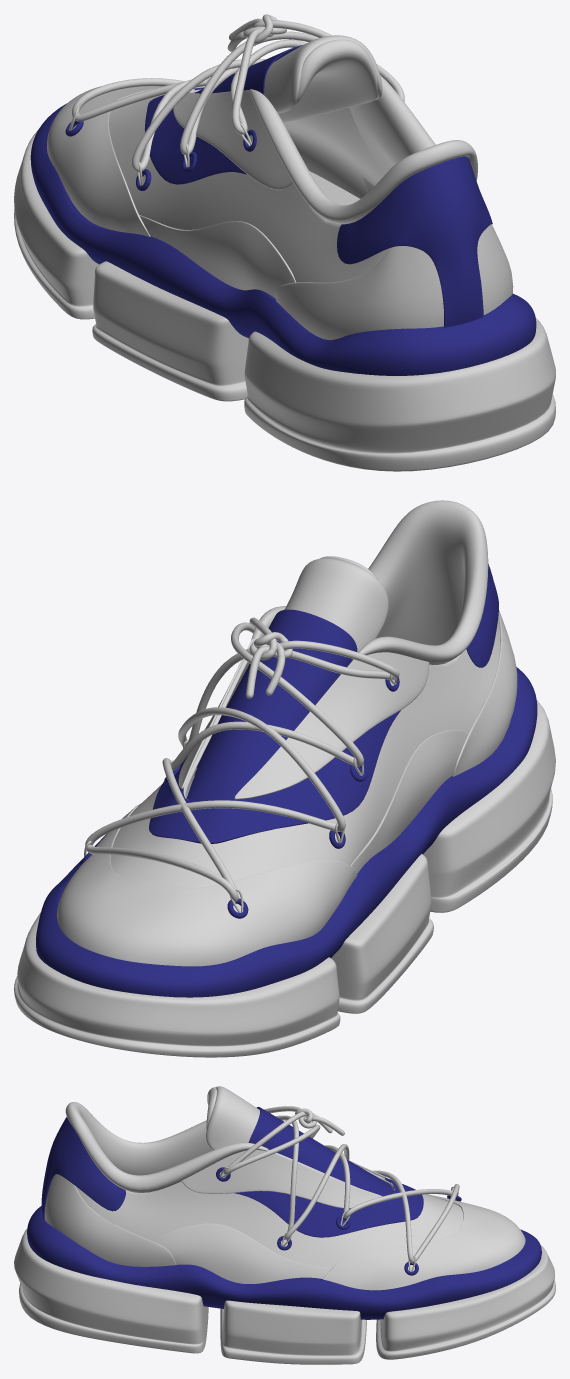
Rendered from shoe.fbx.
3 renders of one model, top to bottom at view 1: azimuth 30°, elevation 25°; view 2: azimuth 150°, elevation 25°; view 3: azimuth 270°, elevation 25°, orthographic. The views are drawn at different scales.
Visible parts, largest first — view 1: Midsole 2, Midsole 1, 116481618834108208-4357537089303569488_Thicken, Heel Overlay, Heel Underlay, Lining, Lace, Toe Cap, Tongue, Mudguard, Eyerow Overlay, Eyerow Underlay (+3 smaller); view 2: Midsole 2, Toe Cap, Midsole 1, 116481618834108208-4357537089303569488_Thicken, Lining, Lace, Gore, Eyerow Overlay, Eyerow Underlay, Tongue, Mudguard, Heel Underlay (+2 smaller); view 3: Midsole 2, Midsole 1, 116481618834108208-4357537089303569488_Thicken, Toe Cap, Lining, Mudguard, Lace, Eyerow Overlay, Heel Underlay, Eyerow Underlay, Heel Overlay, Gore (+2 smaller).
Part boxes in pixels (x1,y1,x2,y2): Midsole 2: (14, 130, 555, 471); Midsole 1: (30, 103, 536, 375); 116481618834108208-4357537089303569488_Thicken: (109, 87, 389, 282); Heel Overlay: (337, 156, 492, 327); Heel Underlay: (275, 224, 513, 340); Lining: (249, 75, 477, 224); Lace: (72, 14, 404, 172); Toe Cap: (47, 86, 162, 236); Tongue: (264, 35, 382, 122); Mudguard: (139, 176, 374, 298); Eyerow Overlay: (173, 90, 292, 190); Eyerow Underlay: (144, 87, 246, 184); Midsole 2: (14, 700, 555, 1057); Toe Cap: (57, 805, 357, 966); Midsole 1: (36, 667, 537, 997); 116481618834108208-4357537089303569488_Thicken: (110, 618, 499, 888); Lining: (251, 500, 488, 664); Lace: (85, 617, 399, 902); Gore: (186, 609, 357, 801); Eyerow Overlay: (178, 639, 429, 799); Eyerow Underlay: (149, 710, 400, 843); Tongue: (186, 556, 388, 798); Mudguard: (350, 729, 468, 873); Heel Underlay: (452, 610, 517, 776); Midsole 2: (14, 1229, 555, 1364); Midsole 1: (27, 1206, 541, 1319); 116481618834108208-4357537089303569488_Thicken: (75, 1149, 463, 1268); Toe Cap: (323, 1194, 525, 1290); Lining: (65, 1102, 267, 1192); Mudguard: (154, 1223, 330, 1283); Lace: (223, 1106, 459, 1263); Eyerow Overlay: (181, 1150, 385, 1208); Heel Underlay: (44, 1174, 176, 1266); Eyerow Underlay: (234, 1173, 423, 1237); Heel Overlay: (41, 1117, 125, 1219); Gore: (248, 1107, 393, 1196).
Size of the model in its own units: 30.51 by 12.65 by 14.22.
